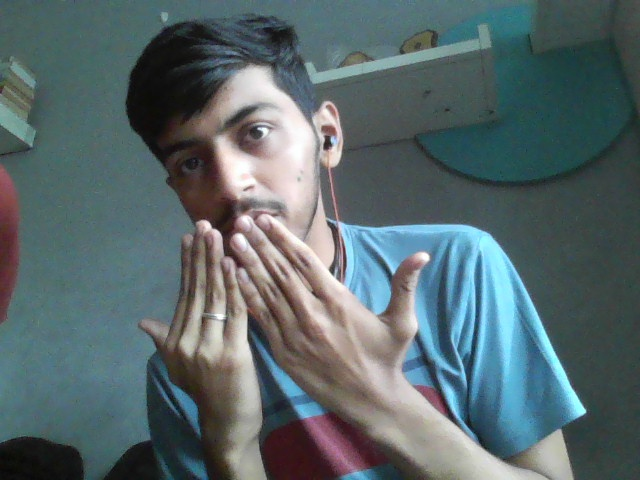Thank You: (136, 213, 426, 431)
